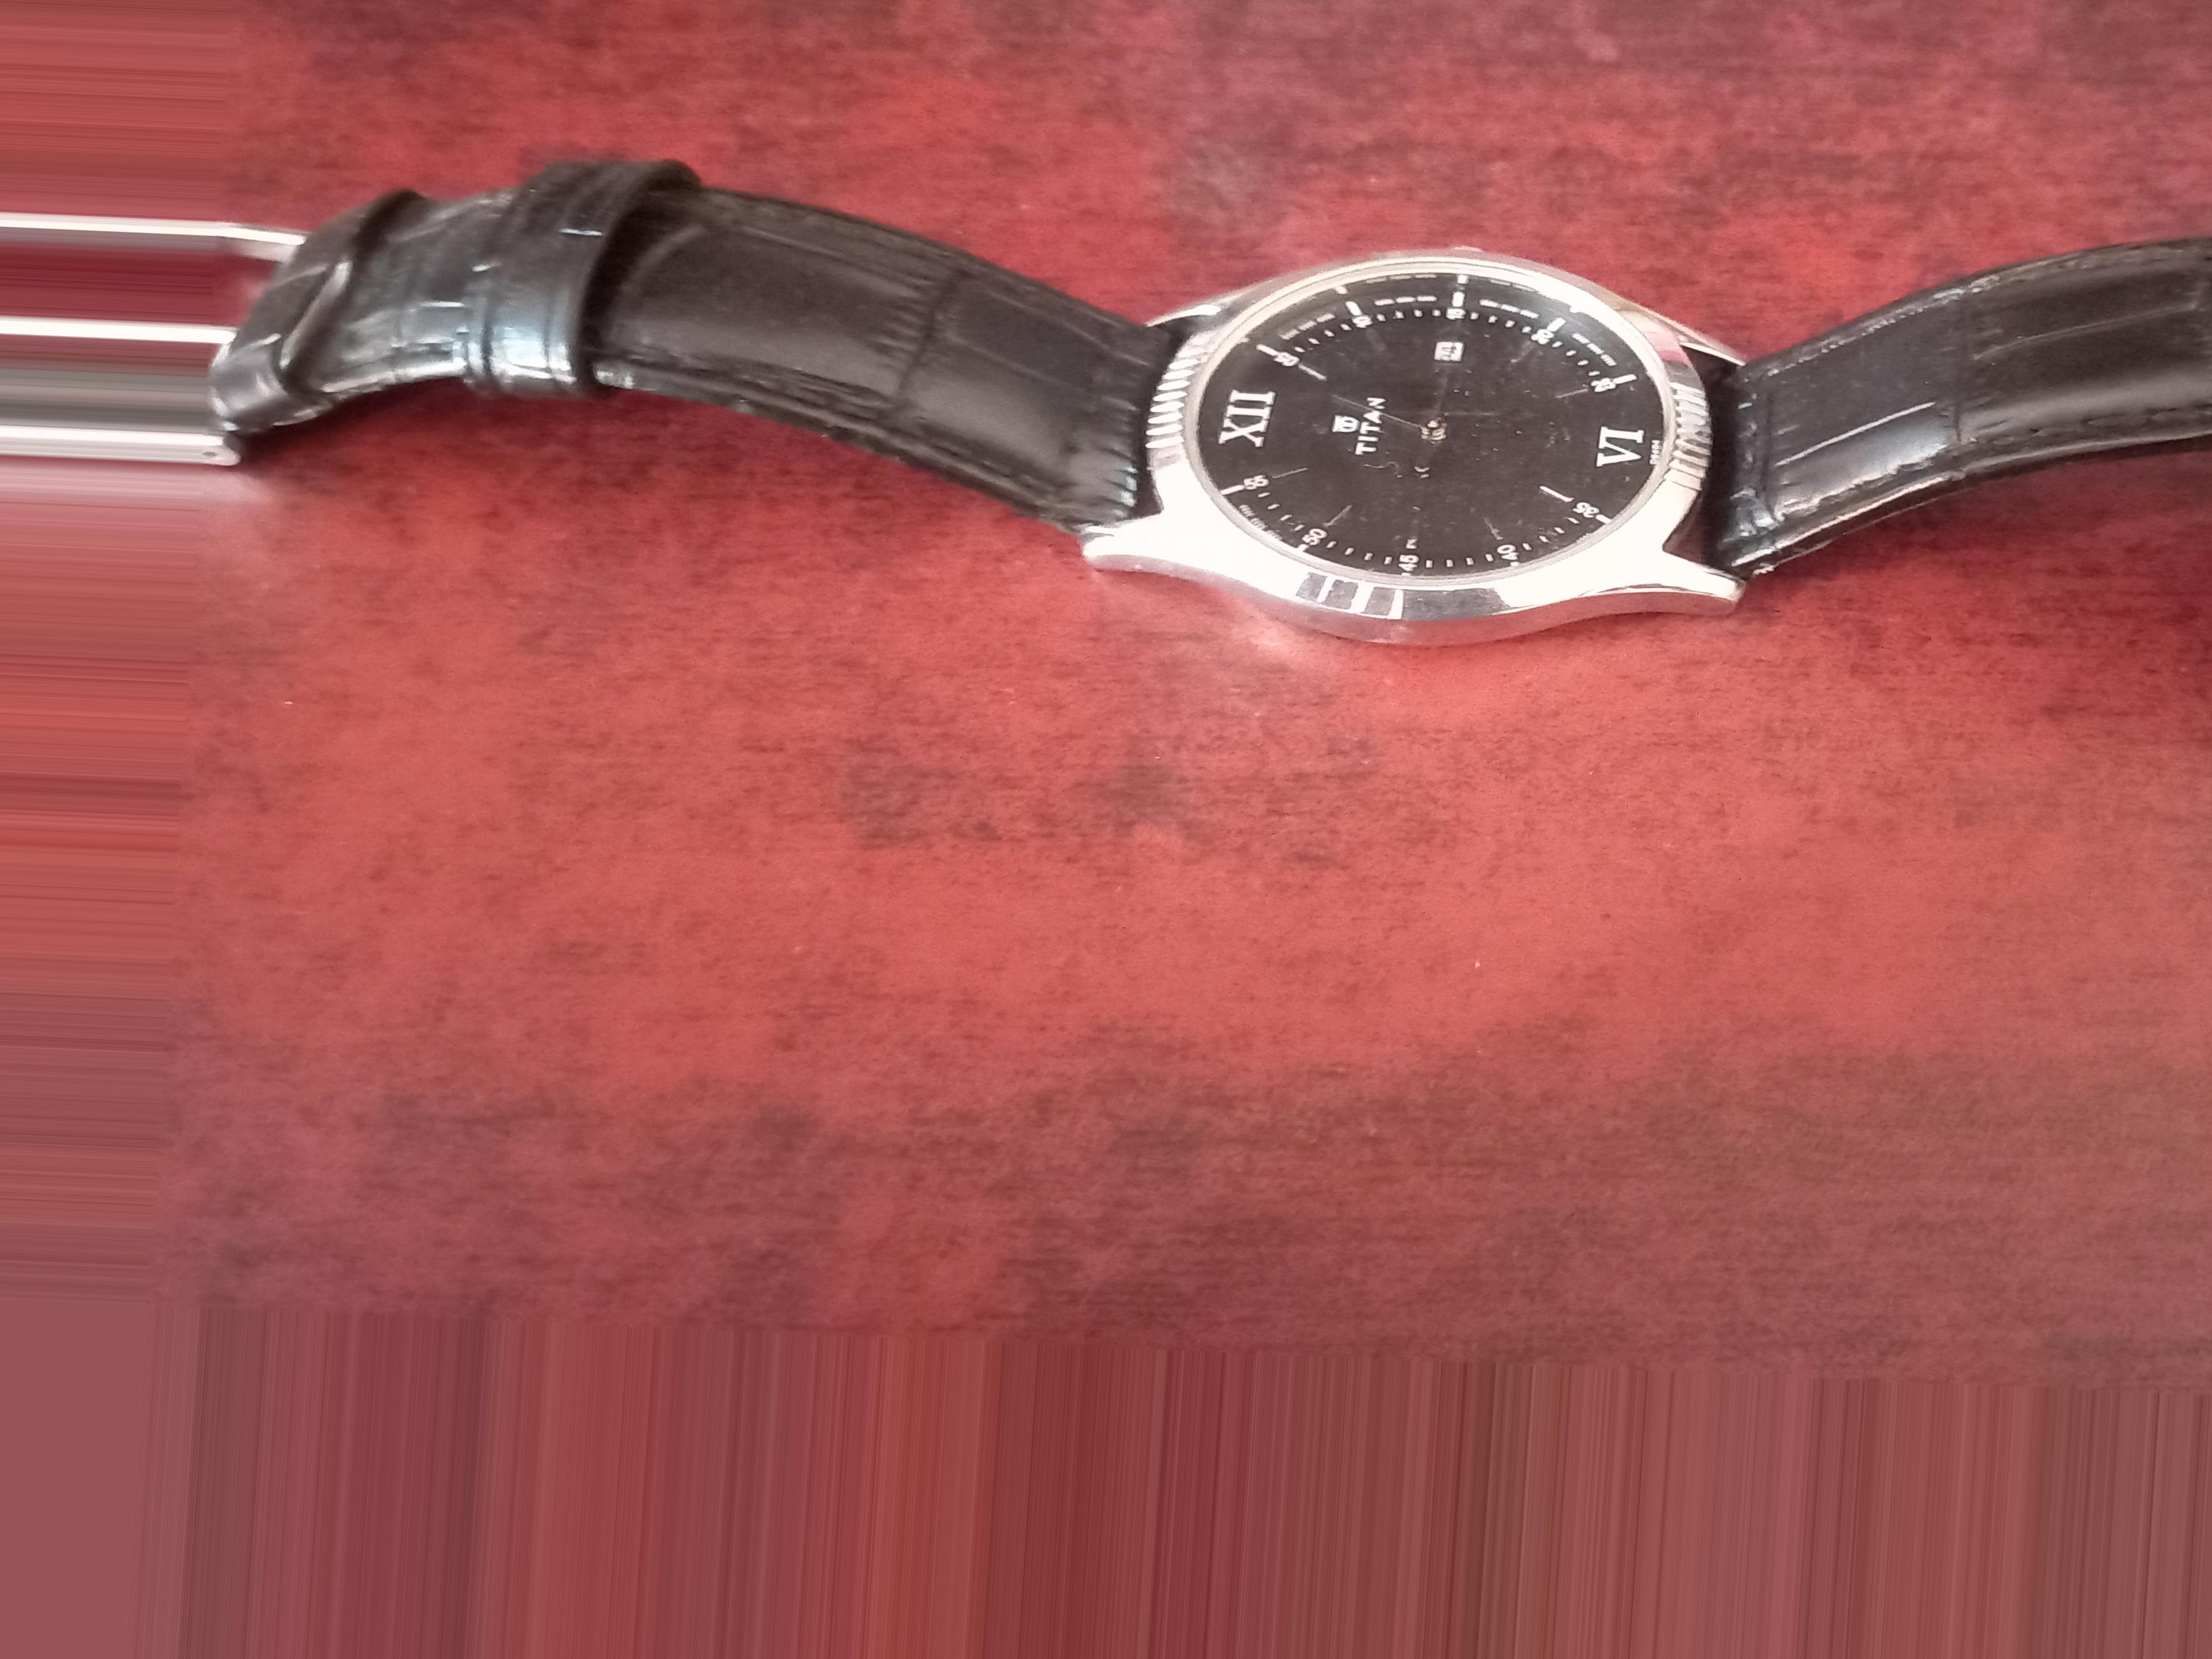watch: (0, 132, 2202, 613)
